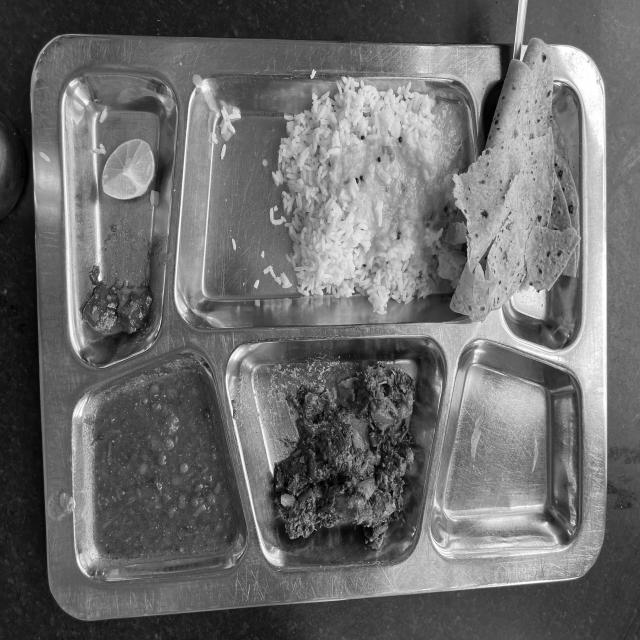Full-Plate: (51, 38, 579, 568)
